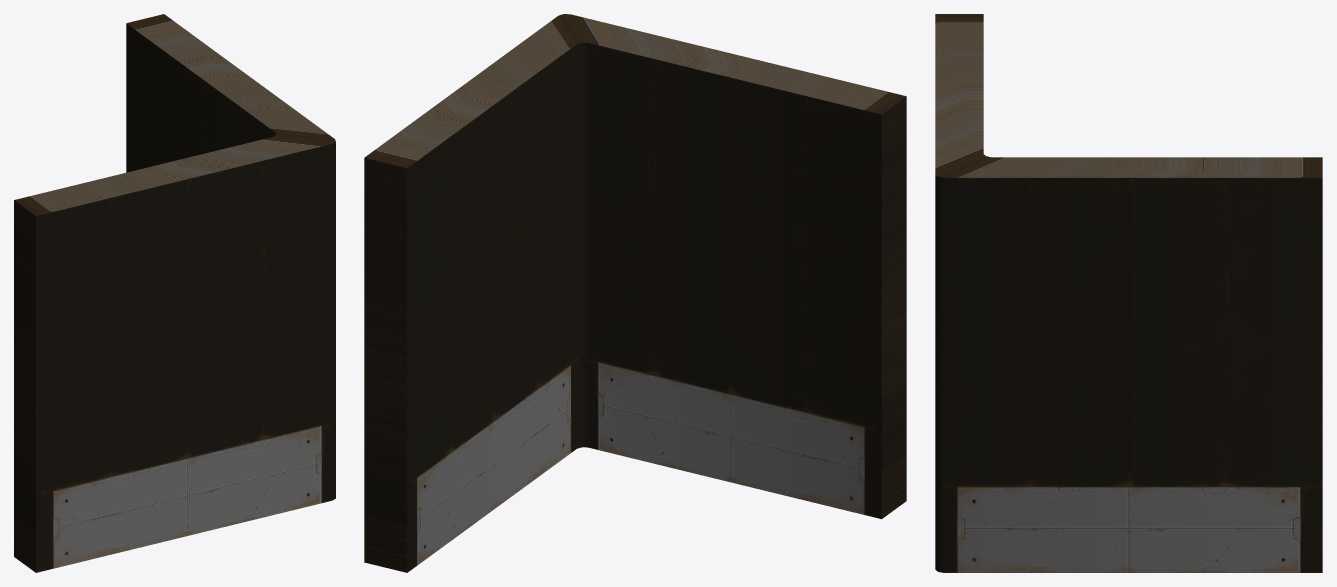
The model's file is Wall_Yellow01_BorderIn.dae.
3 renders of one model, left to right at view 1: azimuth 30°, elevation 25°; view 2: azimuth 150°, elevation 25°; view 3: azimuth 270°, elevation 25°, orthographic. The views are drawn at different scales.
Visible parts, largest first — view 1: polySurface6; view 2: polySurface6; view 3: polySurface6.
Part boxes in pixels (bbox=[...]): polySurface6: bbox=[14, 14, 335, 572]; polySurface6: bbox=[364, 14, 906, 572]; polySurface6: bbox=[935, 14, 1322, 572].
Bounding box in the file's own units: 4 × 4.5 × 4.
1 material, 1 textured.
